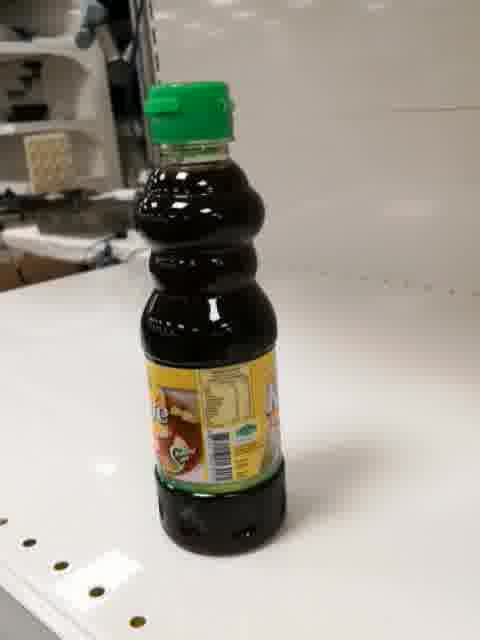cookingoil: (134, 80, 289, 559)
